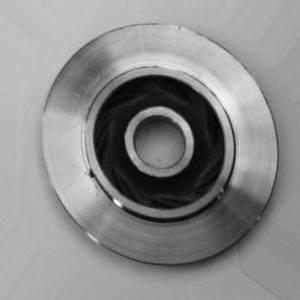defect: (74, 149, 112, 213)
